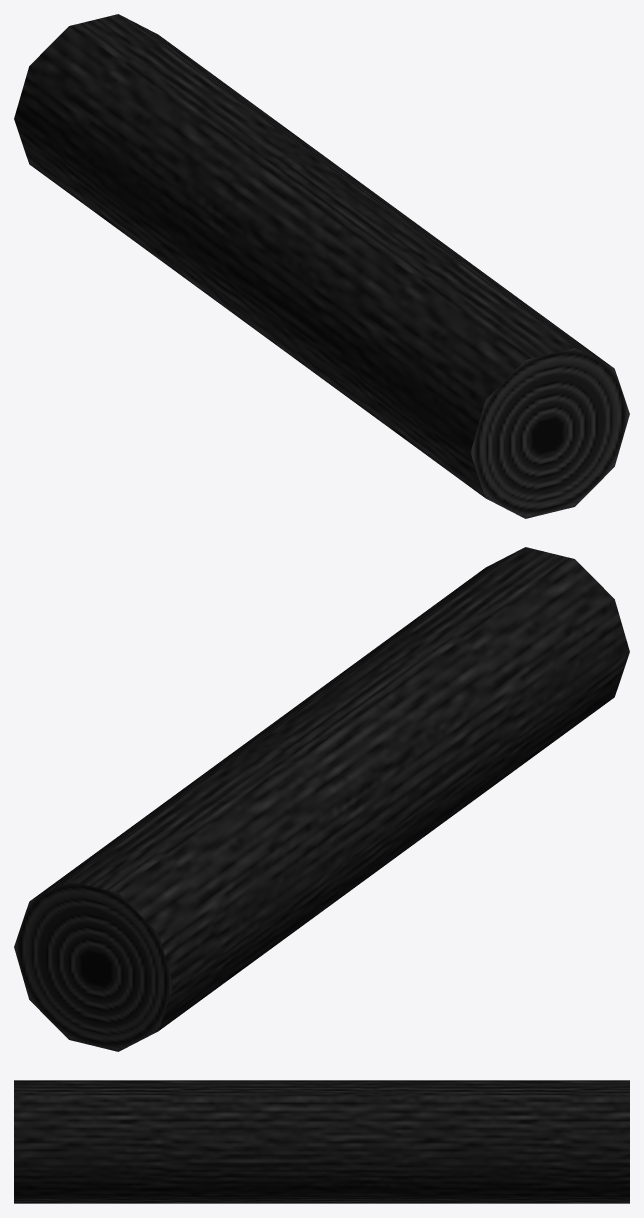
The model's file is Yoga_Mat_Roll_D.FBX.
3 renders of one model, top to bottom at view 1: azimuth 30°, elevation 25°; view 2: azimuth 150°, elevation 25°; view 3: azimuth 270°, elevation 25°, orthographic. The views are drawn at different scales.
Visible parts, largest first — view 1: Yogamat_Roll; view 2: Yogamat_Roll; view 3: Yogamat_Roll.
Boxes of the visible parts, bbox=[...] form: Yogamat_Roll: bbox=[14, 14, 629, 518]; Yogamat_Roll: bbox=[14, 547, 629, 1051]; Yogamat_Roll: bbox=[14, 1080, 629, 1203].
Size of the model in its own units: 29.29 by 27.86 by 145.
